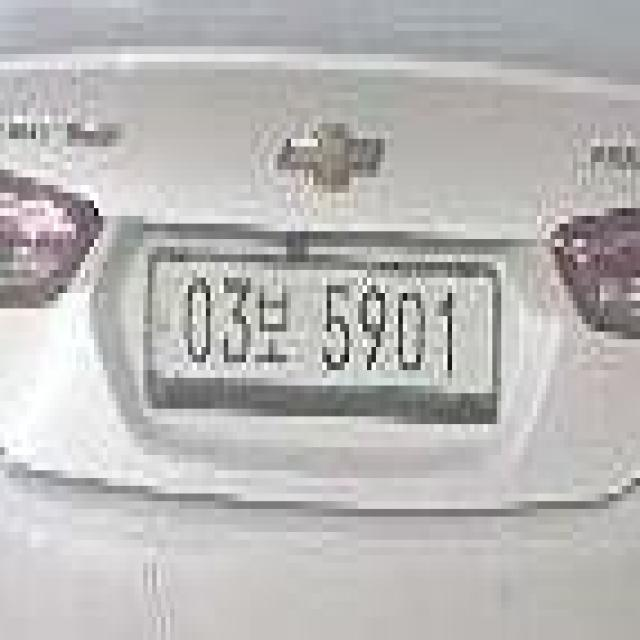illegal_plate: (147, 244, 506, 426)
